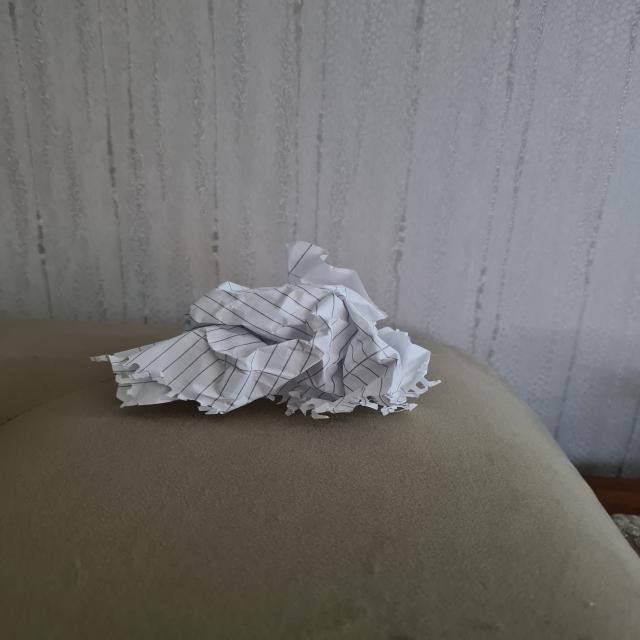Paper: (110, 240, 432, 416)
